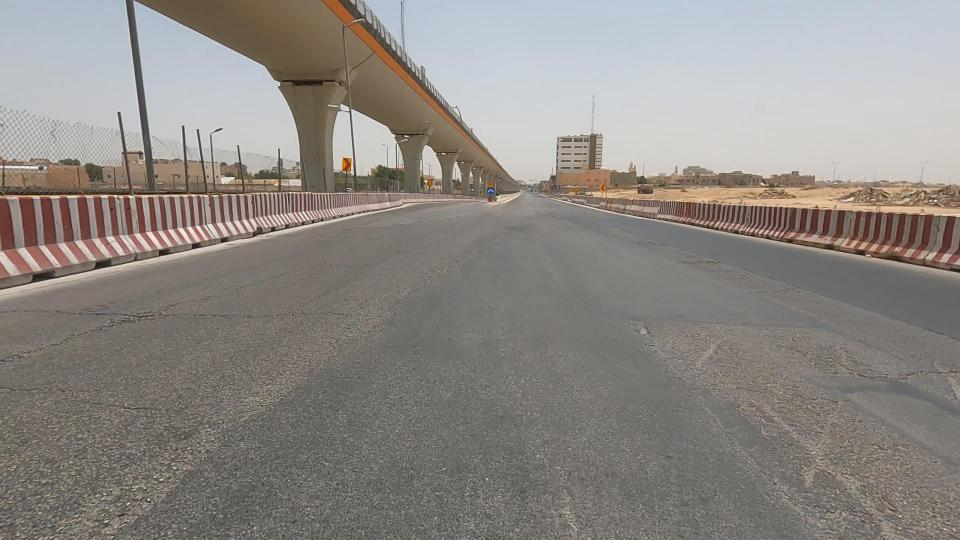CONSTRUCTION_ROAD: (56, 110, 394, 287), (0, 91, 210, 312), (796, 156, 960, 311), (270, 148, 423, 239), (680, 176, 833, 262), (546, 168, 682, 234)
